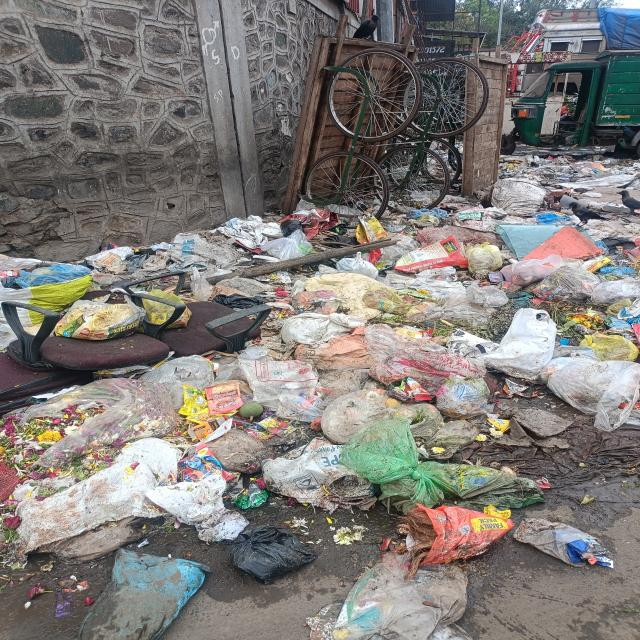garbage: (2, 210, 640, 580), (503, 156, 640, 210)
